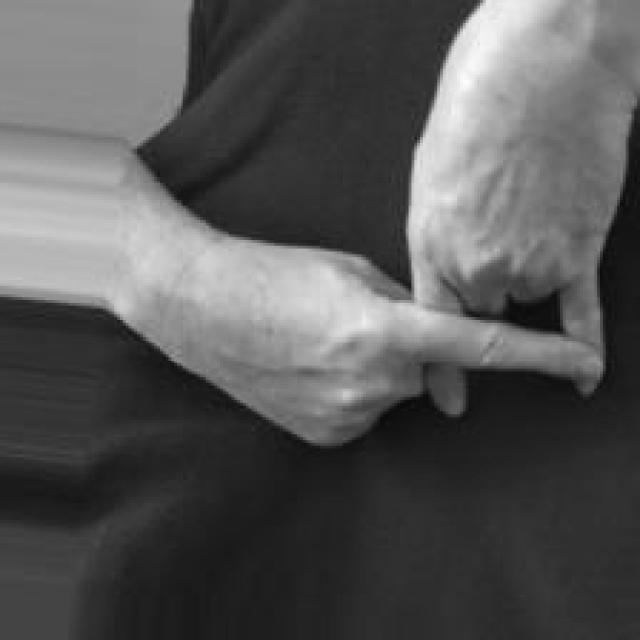H: (135, 0, 640, 450)
